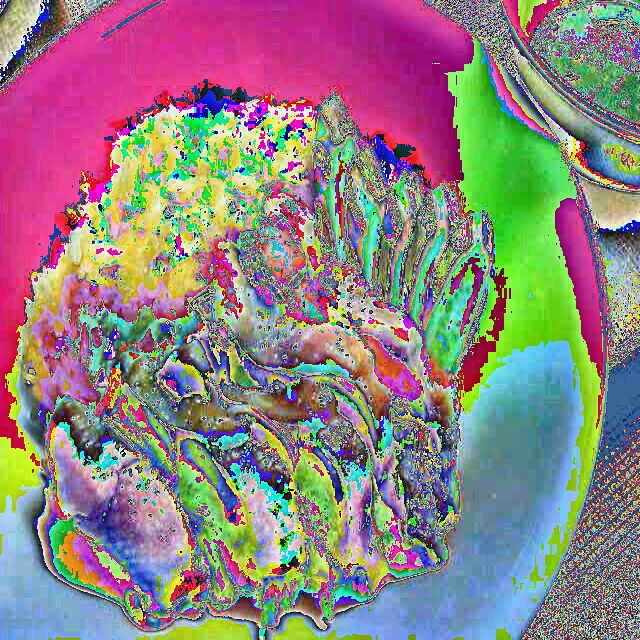background: (17, 87, 493, 634), (109, 0, 639, 128)
